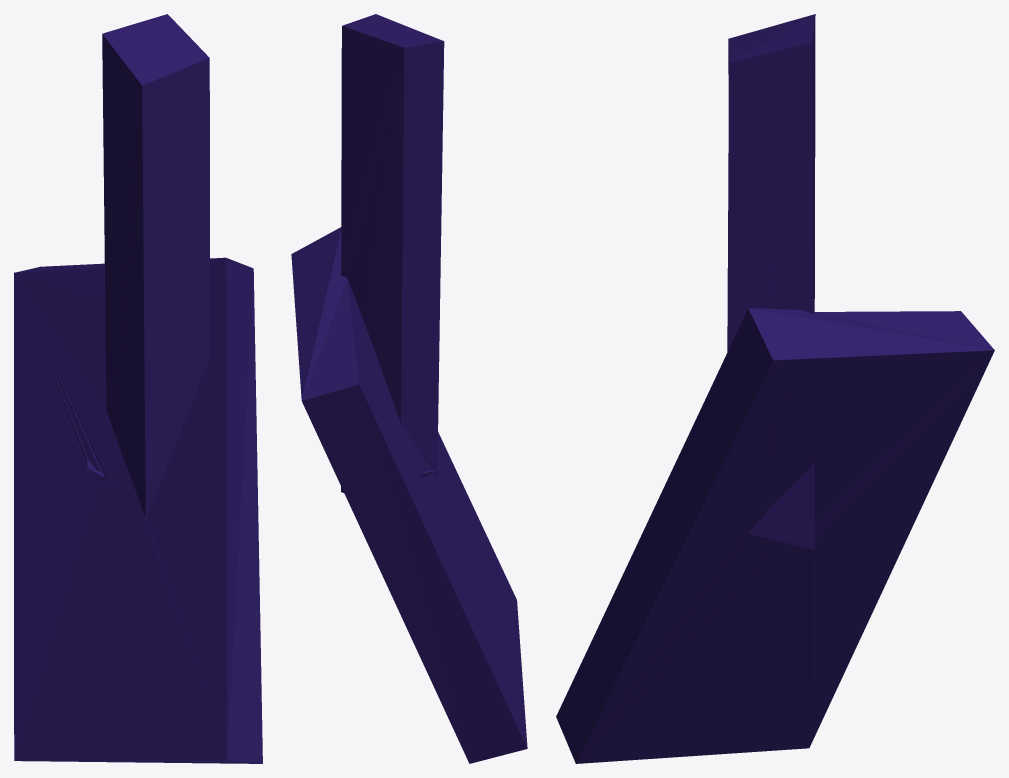
The picture shows the model from 3 angles, left to right: view 1: azimuth 30°, elevation 25°; view 2: azimuth 150°, elevation 25°; view 3: azimuth 270°, elevation 25°; orthographic projection. The views are drawn at different scales.
Parts seen in each view (by area): view 1: 177_Cube.734; view 2: 177_Cube.734; view 3: 177_Cube.734.
Boxes of the visible parts, x1,y1,x2,y2 form: 177_Cube.734: [14, 14, 262, 763]; 177_Cube.734: [291, 14, 527, 763]; 177_Cube.734: [556, 14, 994, 763].
Bounding box in the file's own units: 6.57 × 18.69 × 9.61.
